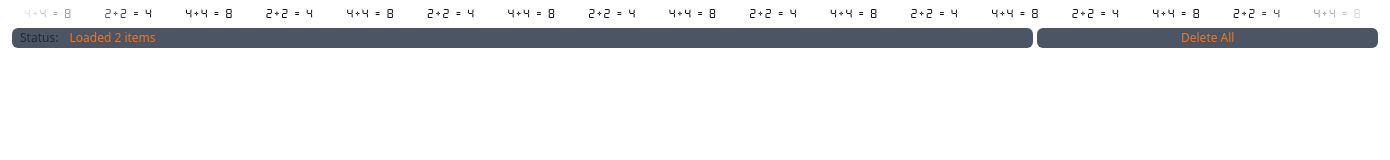
Test: TickerBar coverage › deletes one item successfully via click
The image size is (1390, 160).
Click the 1st button "4+4 = 8" at {"x": 48, "y": 14}, box [12, 4, 85, 24]
Wait 3000 ms
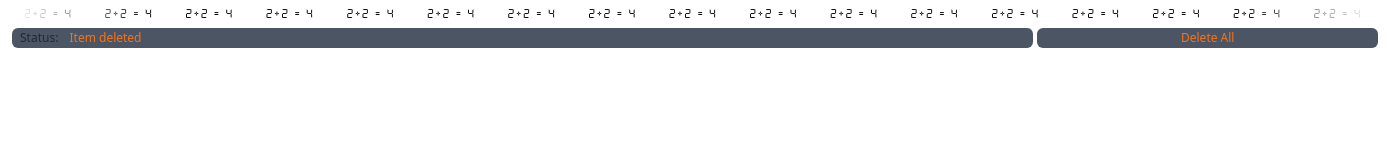
expect the text "2+2 = 4" is shown: met, box [24, 4, 73, 24]
expect the text "Item deleted" is shown: met, box [66, 29, 142, 46]
expect the text "4+4 = 8" is gone: met
